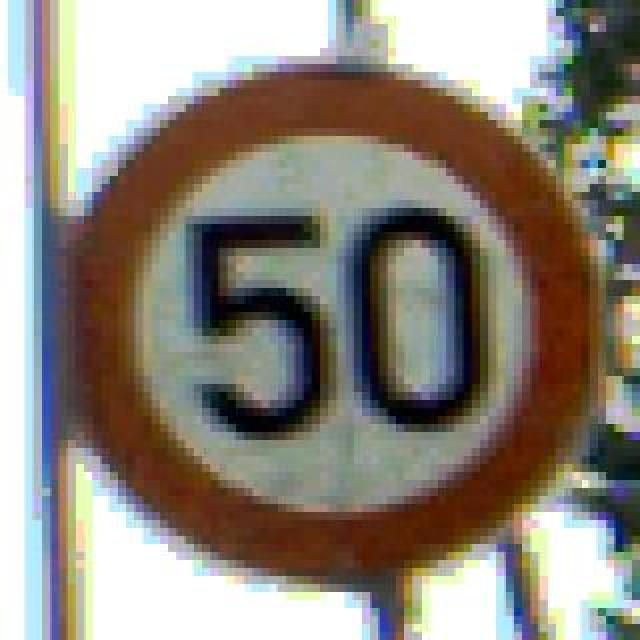50 kph: (58, 56, 598, 576)
